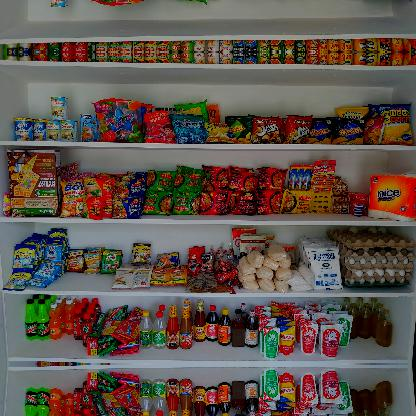Koko-Krunch: (5, 145, 65, 219)
